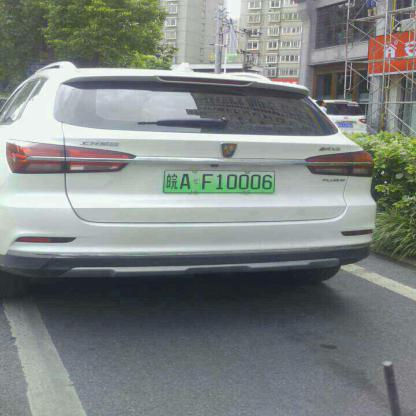lp: (164, 170, 275, 192)
